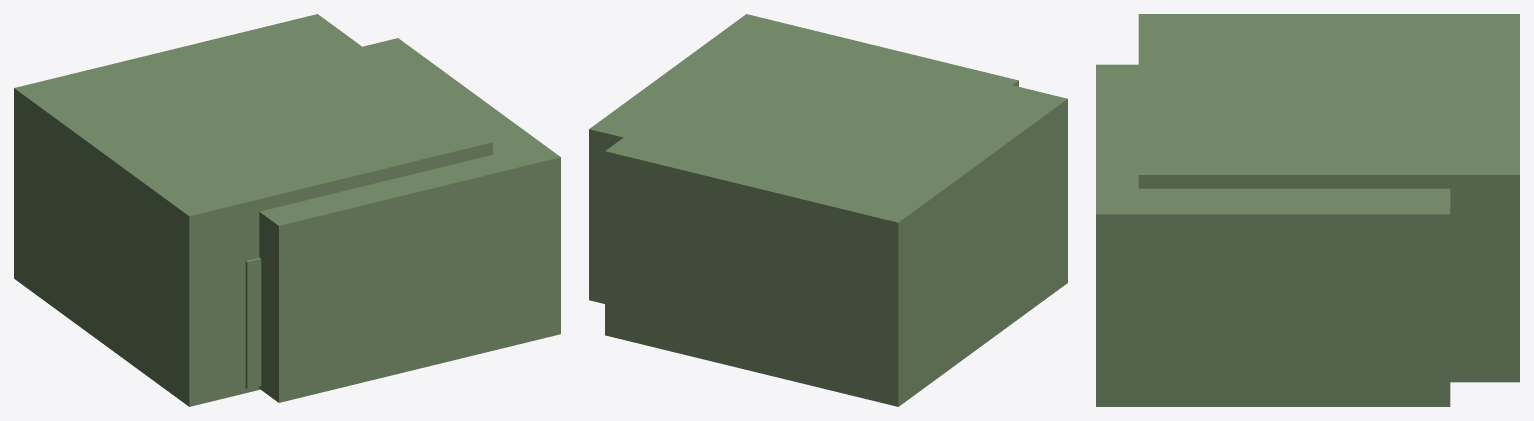
File: shrub_v1_near.gltf
3 views of the same model, side by side, from view 1: azimuth 30°, elevation 25°; view 2: azimuth 150°, elevation 25°; view 3: azimuth 270°, elevation 25° (orthographic). The views are drawn at different scales.
Parts seen in each view (by area): view 1: cover; view 2: cover; view 3: cover.
Part boxes in pixels (x1,y1,x2,y2): cover: (14, 14, 560, 406); cover: (589, 14, 1067, 406); cover: (1096, 14, 1519, 406).
Bounding box in the file's own units: 0.637 × 0.3296 × 0.6103.
